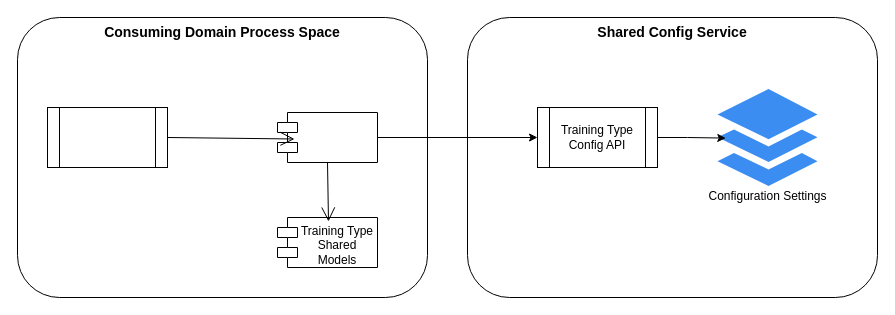
Some shapes in this 895 by 315 pixel diagram are drawn without their labels. Here are the shapes that lost their labels. From the top down, the centre of each, then its label:
At (107,137): "Consuming Domain".
At (327,137): "Training Type Client".
